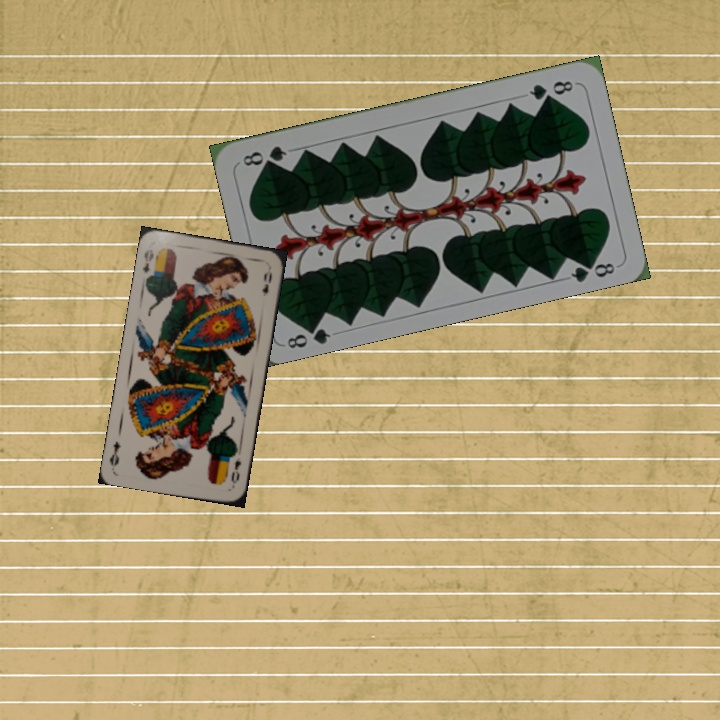EO: (227, 448, 244, 486), (139, 245, 156, 275)
G8: (283, 318, 333, 351), (525, 76, 576, 103)
